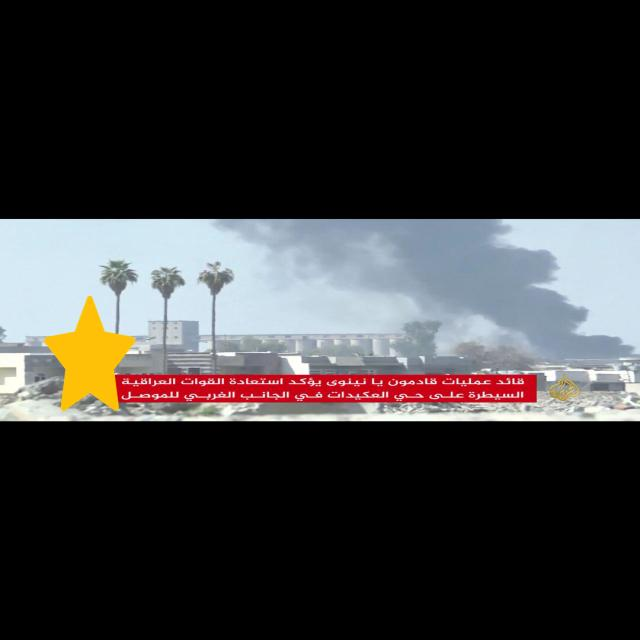forced continuity: (45, 296, 135, 411)
